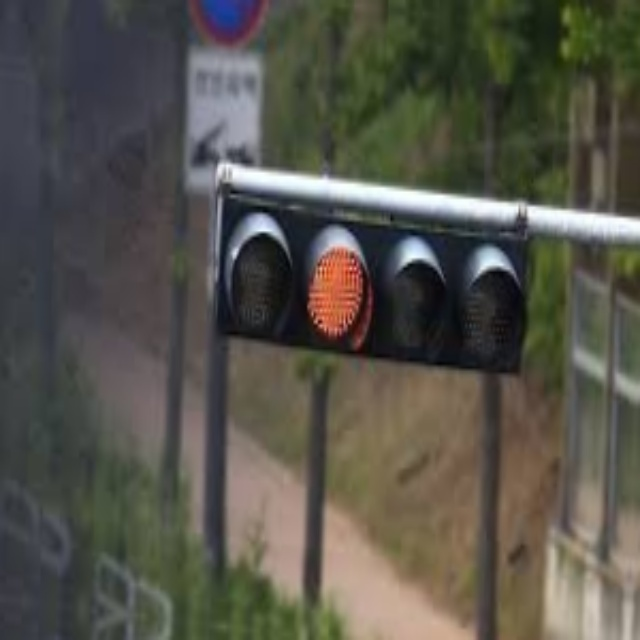yellow_light: (304, 249, 367, 345)
